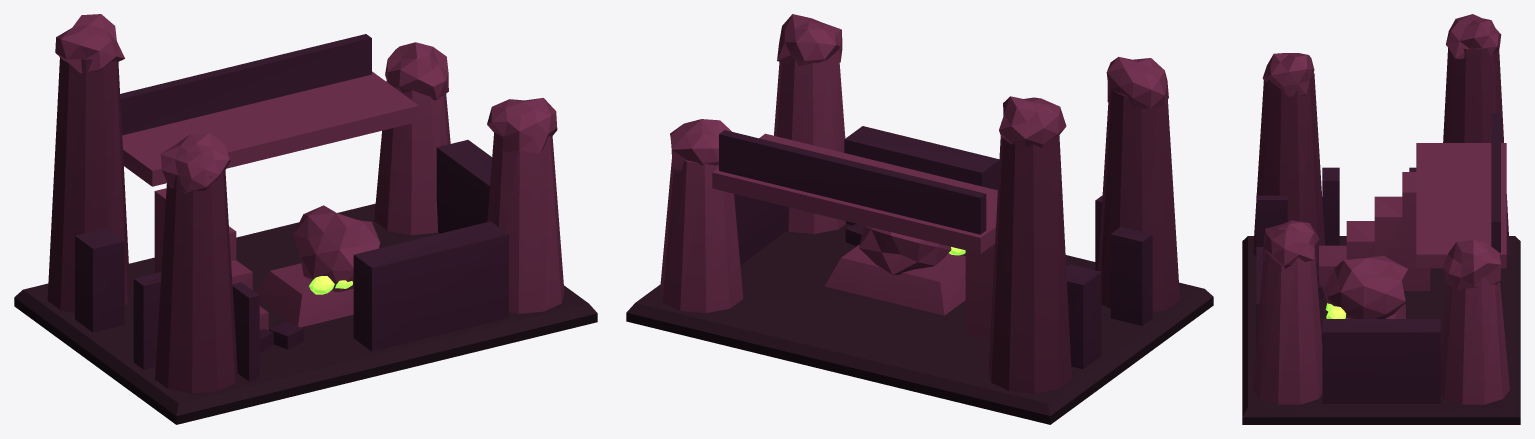
The model's file is creep-brood-chamber.glb.
The picture shows the model from 3 angles, left to right: view 1: azimuth 30°, elevation 25°; view 2: azimuth 150°, elevation 25°; view 3: azimuth 270°, elevation 25°; orthographic projection. The views are drawn at different scales.
Size of the model in its own units: 6 by 4 by 4.
